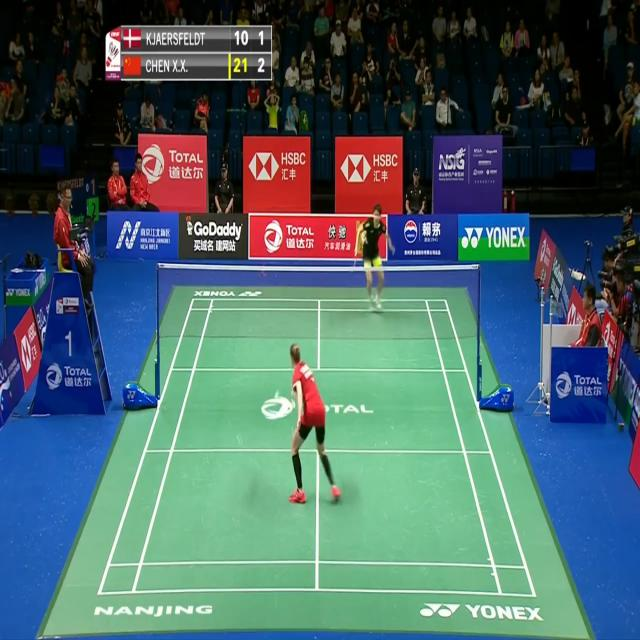Player1: (276, 337, 343, 504)
Player2: (348, 199, 396, 323)
